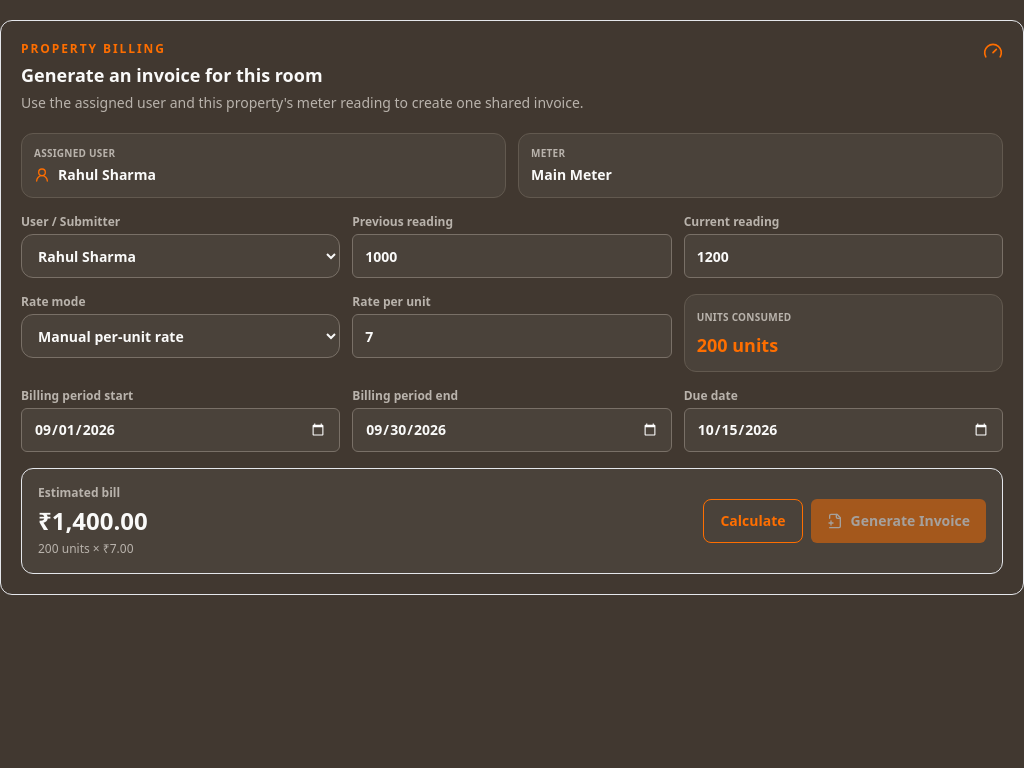
PropertyBilling › shows accurate notification status: not_available
Expected: the text "Rahul Sharma" is shown, top-left (34, 165), bottom-right (156, 184)
Expected: the text "200 units" is shown, top-left (697, 333), bottom-right (778, 357)
Click the button "Calculate" at (753, 521), box top-left (704, 499), bottom-right (803, 543)
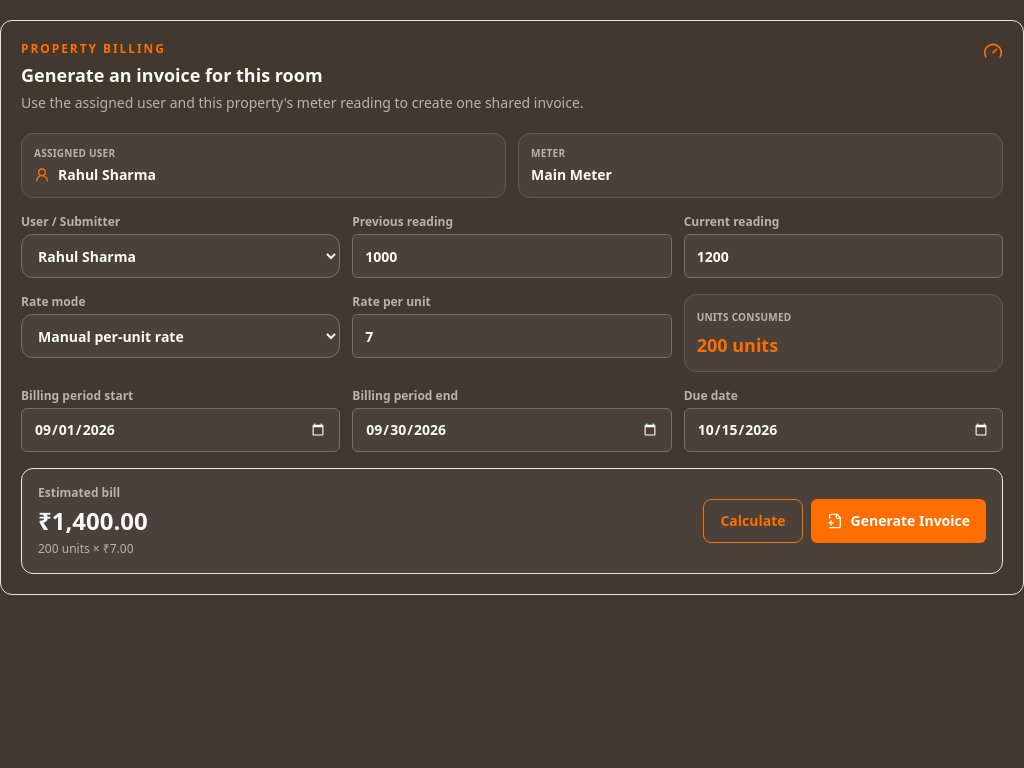
Click the button "Generate Invoice" at (898, 521), box top-left (811, 499), bottom-right (986, 543)
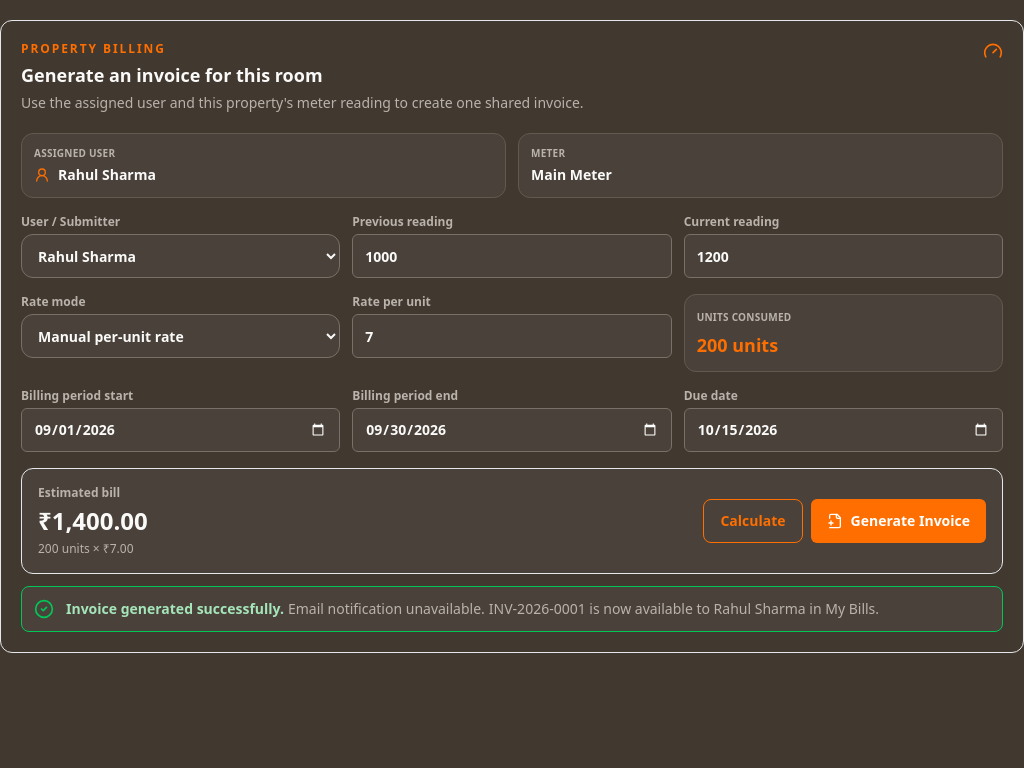
Expected: the text "Email notification unavailable." is shown, top-left (288, 599), bottom-right (485, 618)
Expected: the text "INV-2026-0001 is now available to Rahul Sharma in My Bills." is shown, top-left (489, 599), bottom-right (879, 618)
